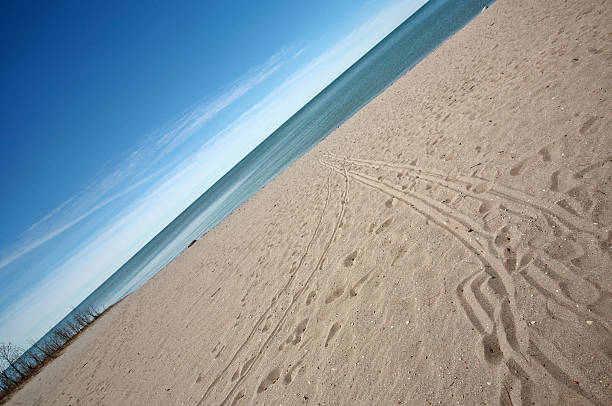human_footprint: (418, 168, 508, 203), (549, 270, 600, 310), (489, 217, 519, 252), (567, 188, 601, 213), (372, 209, 396, 241), (577, 113, 606, 139), (529, 146, 573, 162), (222, 360, 259, 377), (326, 286, 352, 306), (504, 159, 540, 173), (252, 376, 282, 392), (288, 326, 307, 347), (296, 291, 325, 304), (284, 368, 306, 380), (324, 329, 341, 342), (344, 254, 358, 268)
